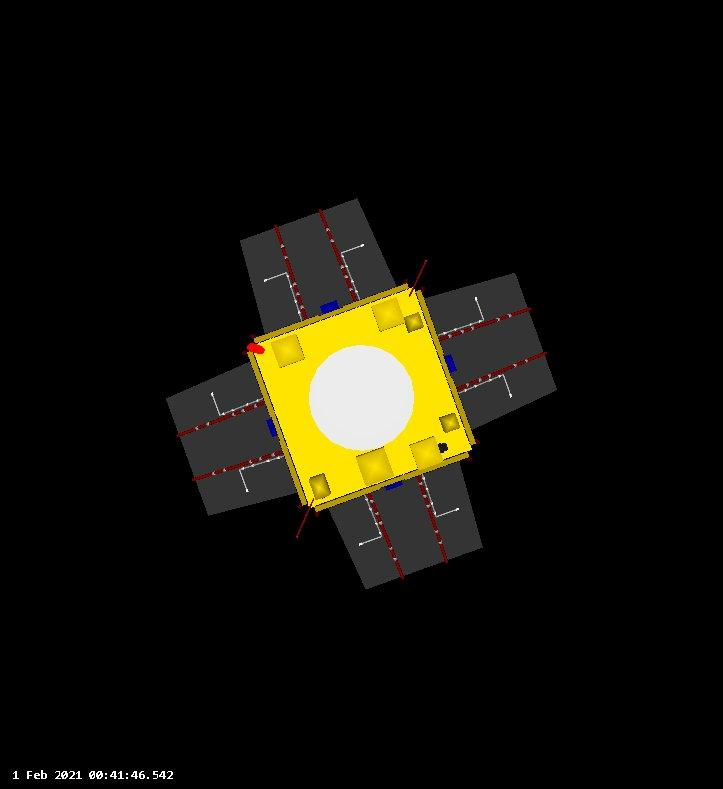antenna: (311, 341, 411, 449)
body: (239, 284, 479, 515)
solar: (239, 195, 397, 334), (163, 361, 299, 521), (427, 273, 559, 432), (324, 459, 484, 588)
